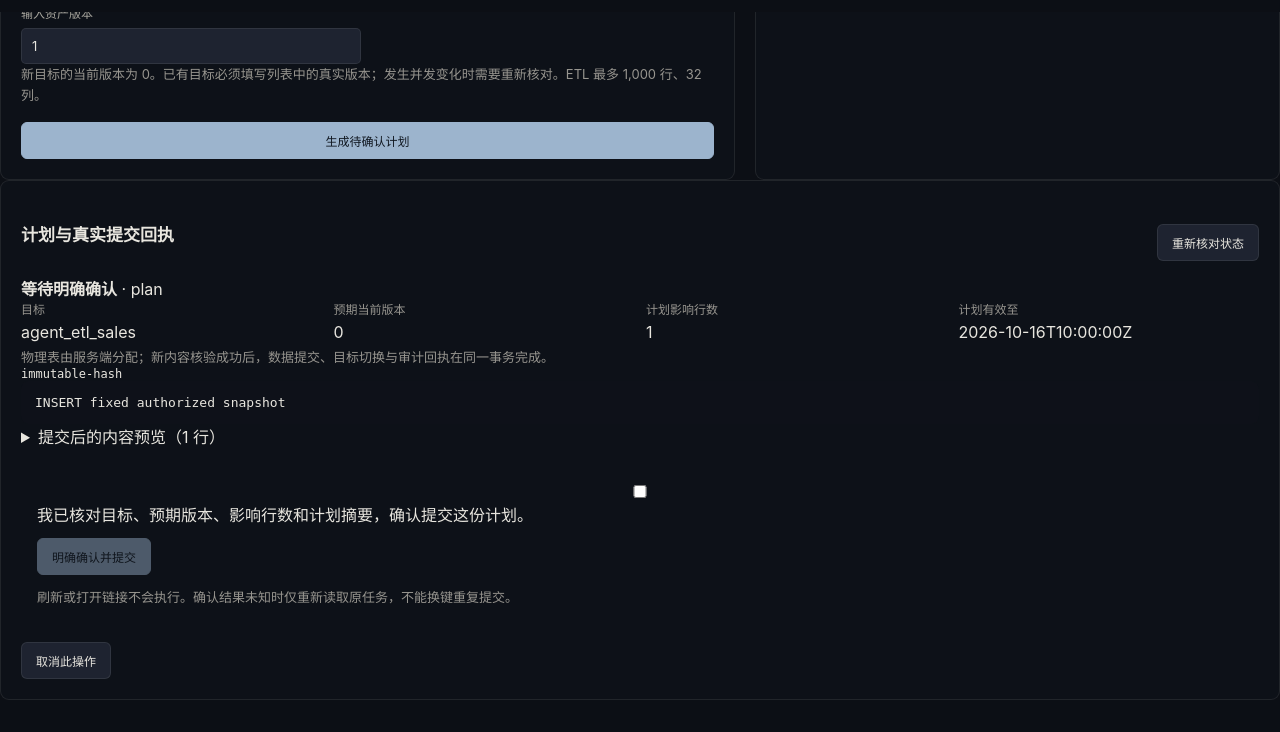
it: governed operation confirmation workbench › requires explicit confirmation and reads the actual receipt
The width and height of the screenshot is (1280, 732).
(page scrolled)
Click the checkbox labelled "我已核对目标、预期版本、影响行数和计划摘要，确认提交这份计划。". click: (640, 492)
box: [37,485,1243,498]
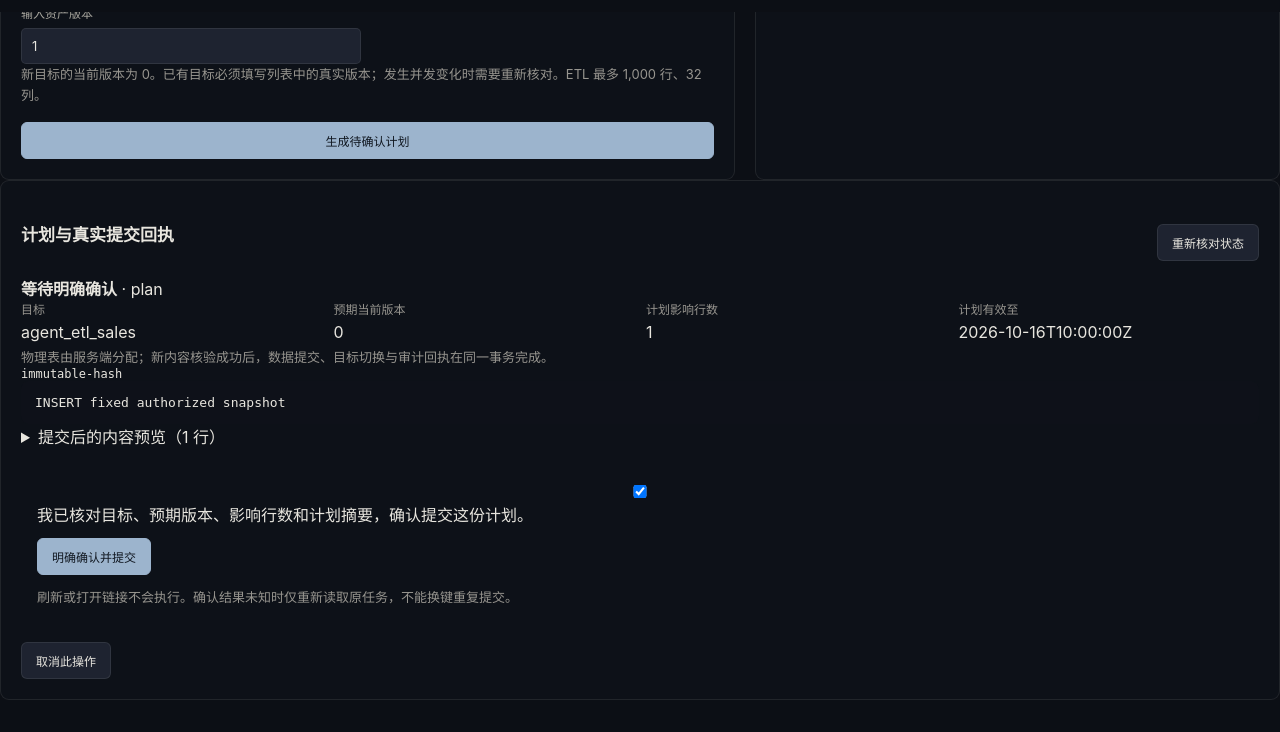
Click the button "明确确认并提交". click: (94, 557)
box: [37,538,151,575]
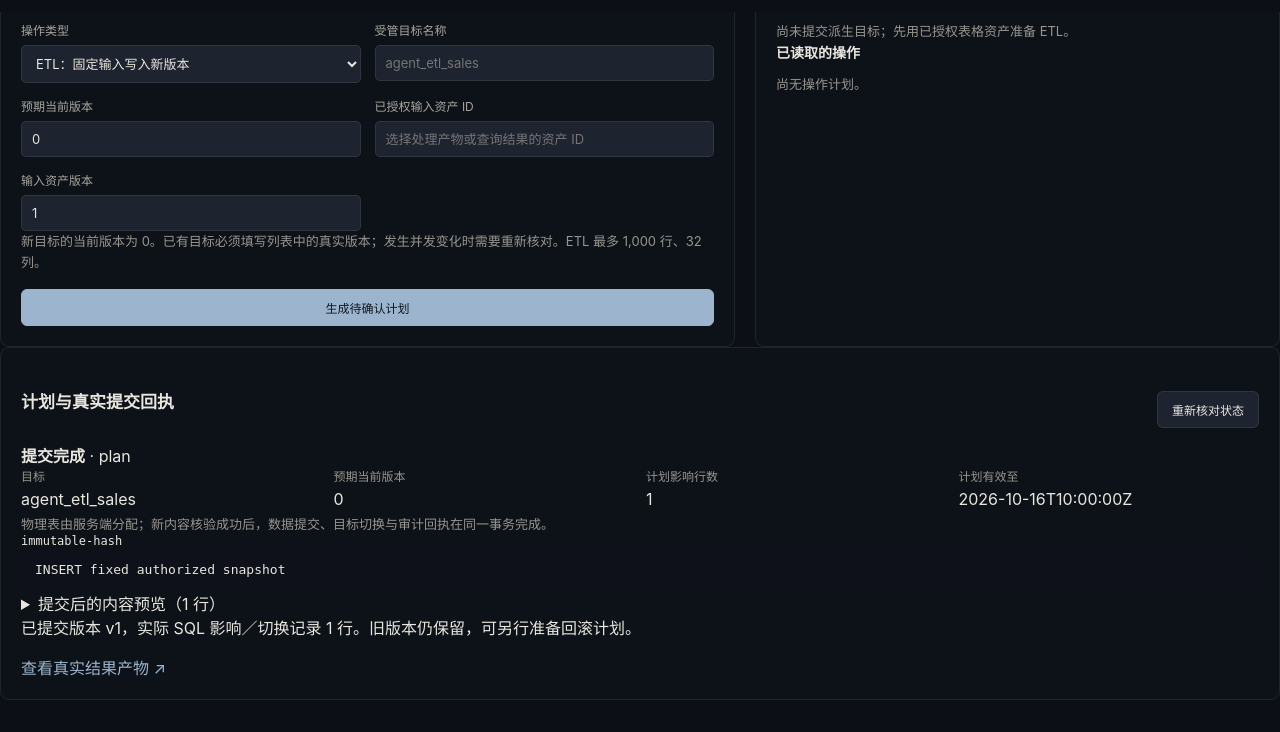
Check: the text "已提交版本 v1" is shown, box [21,618,641,638]
Check: the text "查看真实结果产物" is shown, box [21,658,166,678]
